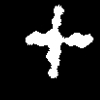single_crochet: (26, 5, 92, 77)
